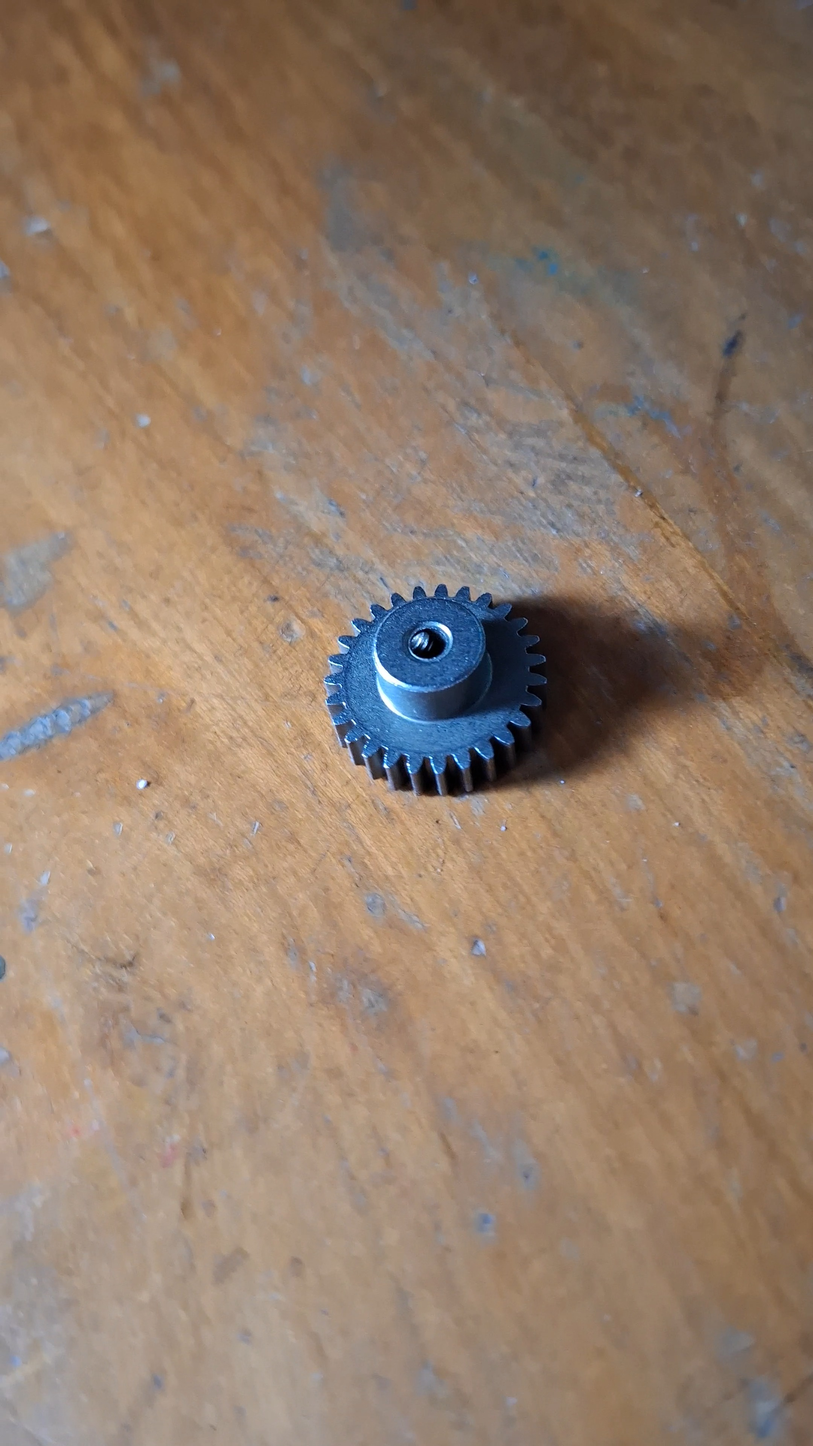spur gear: (325, 585, 545, 793)
